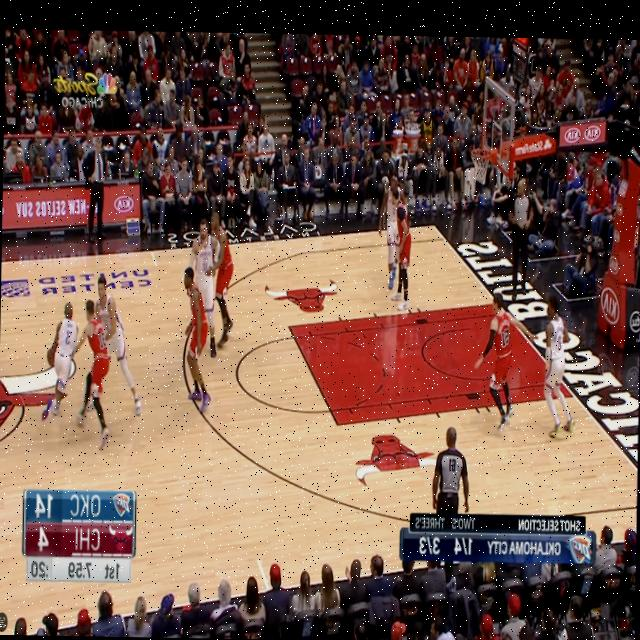no foul: (31, 256, 145, 450), (176, 205, 251, 422), (372, 180, 414, 322)
